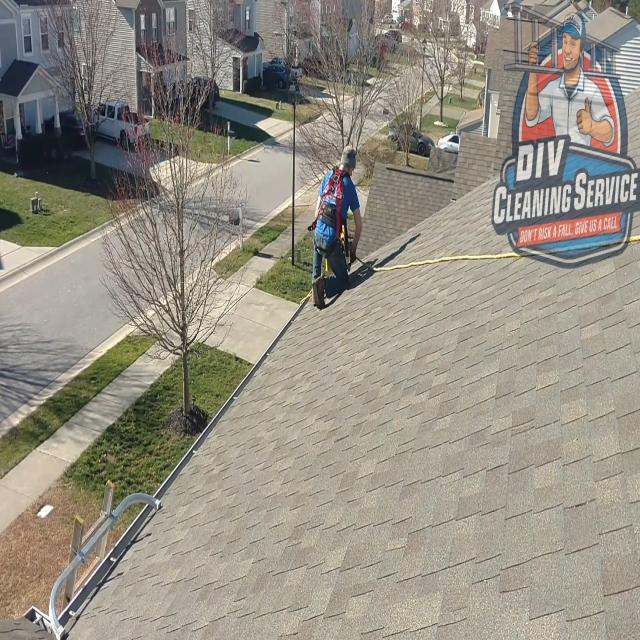belt: (311, 162, 347, 260)
